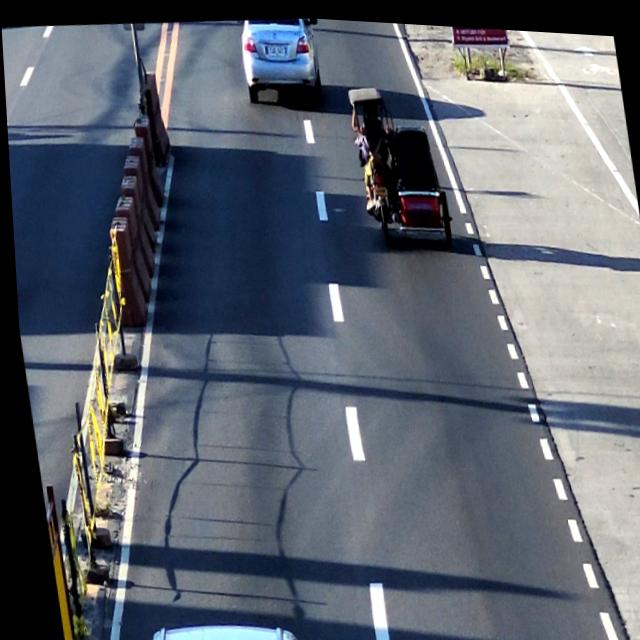Car: (236, 11, 322, 99), (130, 612, 292, 640)
License-Plate: (266, 39, 286, 57)
Tricycle: (342, 70, 452, 249)
